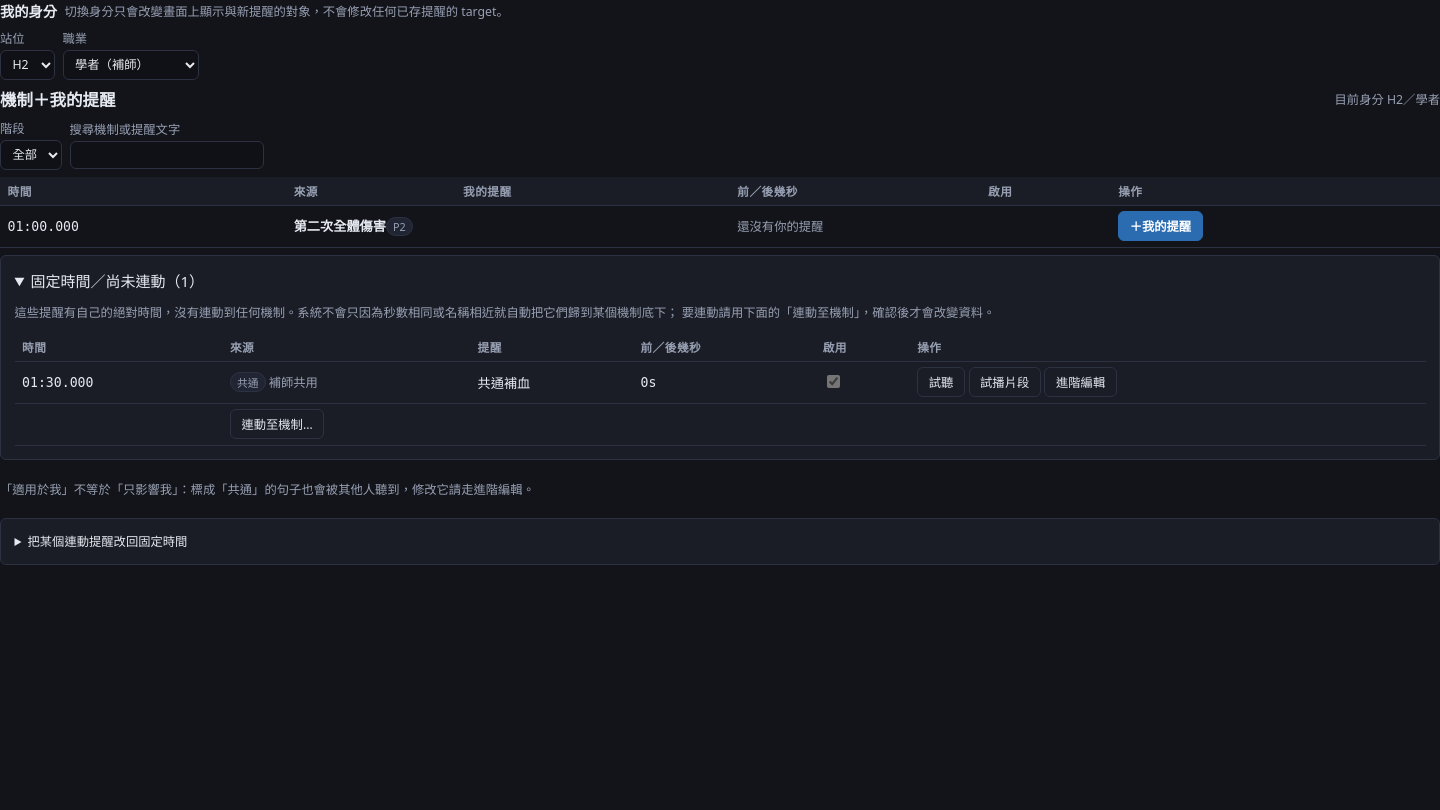
Test case: C. 從機制列表快速追加 › C17d. 取消不留下空軌道或半成品
The width and height of the screenshot is (1440, 810).
Step 1. Click the button "＋我的提醒" → point(1160, 226), box [1118,211,1203,241]
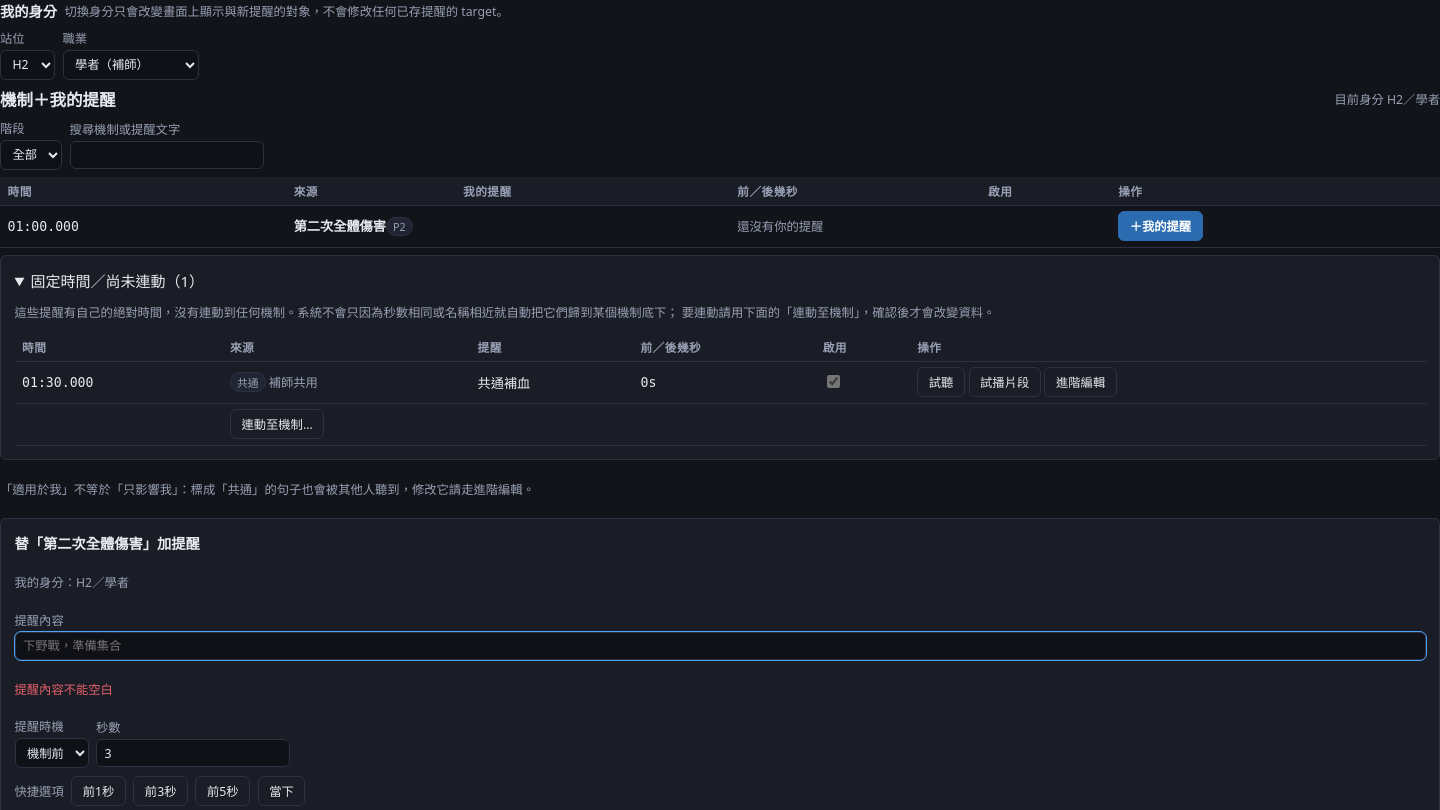
Step 2. Type "寫了又取消" into the field labelled "提醒內容" → point(720, 646), box [14,632,1426,660]
(page scrolled)
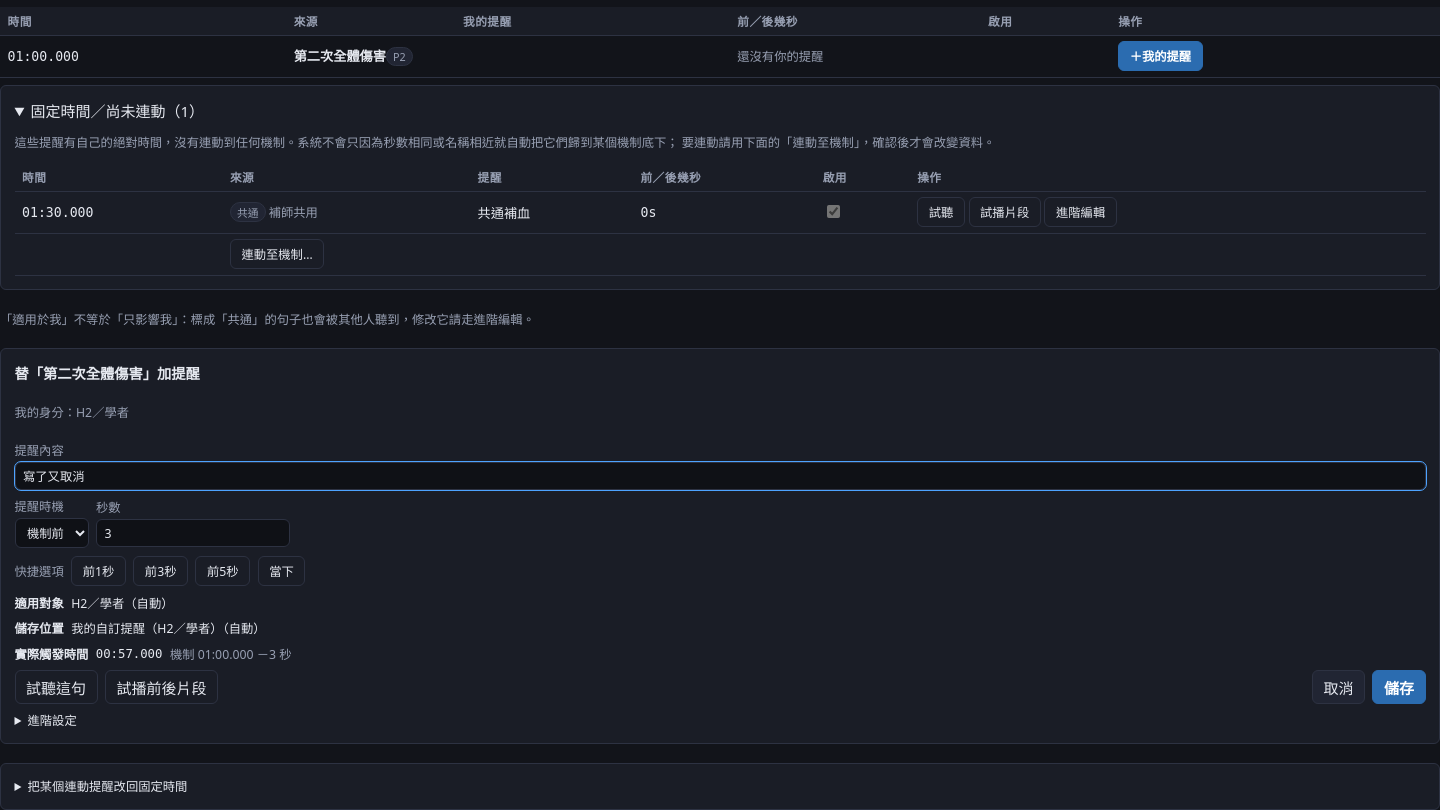
Step 3. Click the button "取消" → point(1338, 687), box [1312,670,1365,704]
(page scrolled)
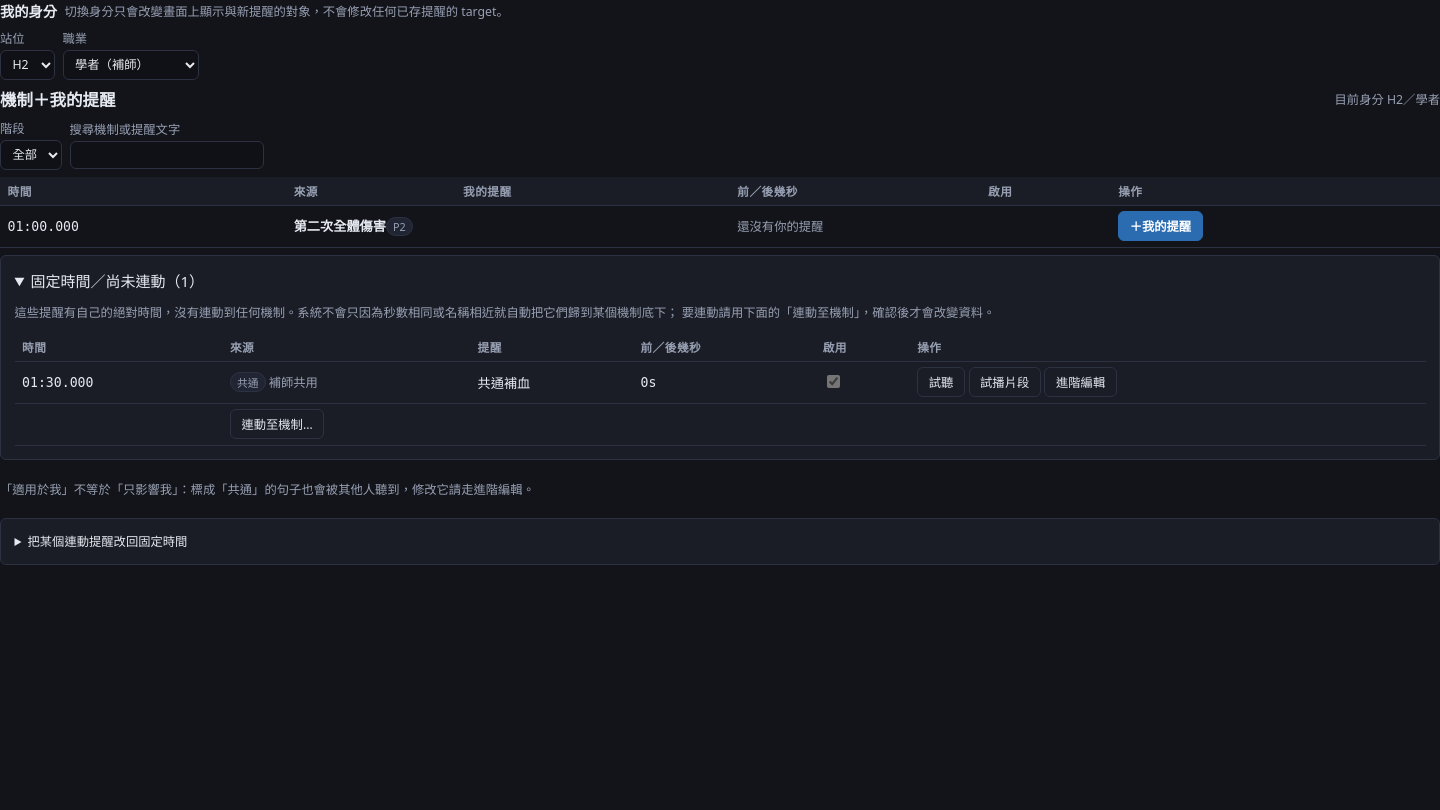
Check: the label labelled "提醒內容" is gone
